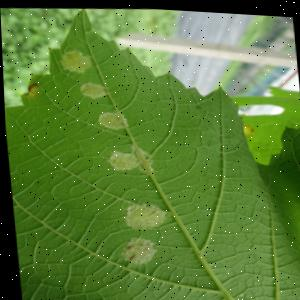Folha: (0, 0, 300, 300)
Fungo: (118, 200, 166, 230), (117, 234, 155, 266), (57, 47, 93, 75), (103, 148, 139, 171), (95, 108, 127, 130), (77, 79, 107, 99), (18, 81, 40, 99), (240, 121, 254, 134)
